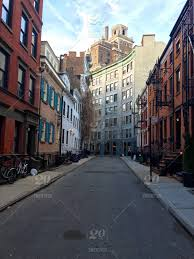strada: (3, 154, 193, 257)
